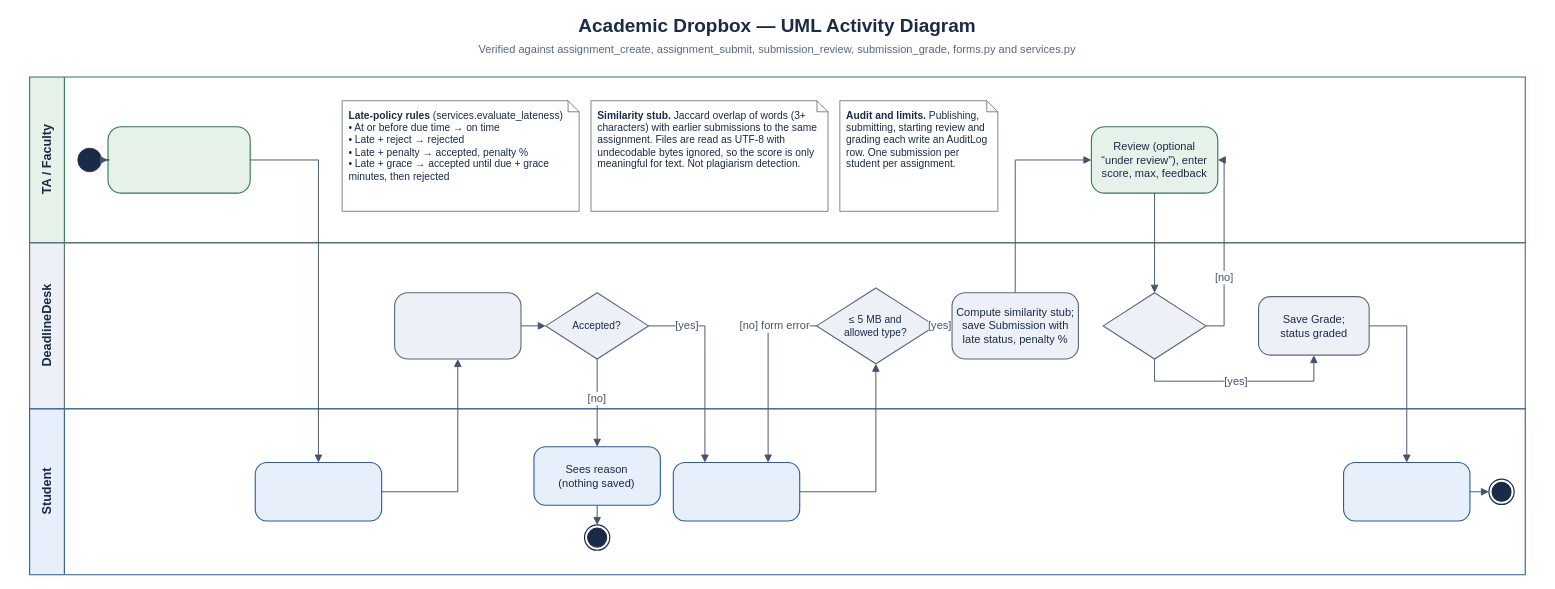
This 1555x589 diagram has some shape labels left out. Each missing label, with the box of its shape:
Open assignment, choose Submit work: (254, 462, 382, 521)
Publish assignment: due time, late policy, grace minutes or penalty %: (107, 126, 250, 193)
Reject a duplicate; evaluate late policy at server time: (394, 292, 521, 359)
Score ≤ max score?: (1102, 292, 1206, 359)
Upload file and note: (672, 462, 800, 521)
Views late status, grade and feedback: (1343, 462, 1470, 521)
